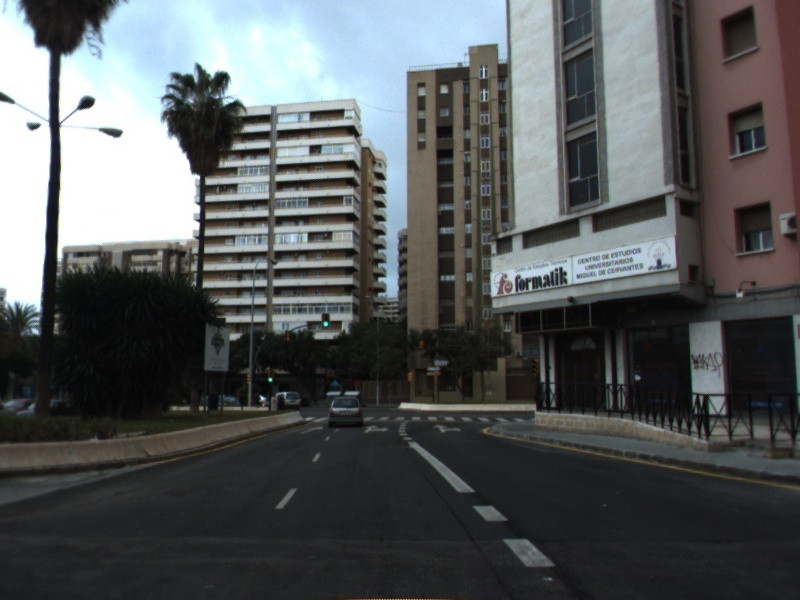STRAIGHT: (298, 424, 324, 435)
STRAIGHT_RIGHT: (430, 422, 464, 434), (361, 423, 391, 435)
